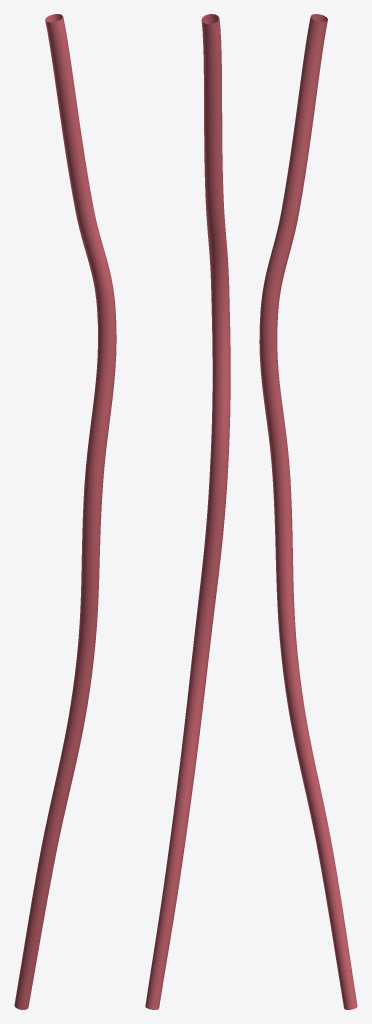
The picture shows the model from 3 angles, left to right: view 1: azimuth 90°, elevation 25°; view 2: azimuth 150°, elevation 25°; view 3: azimuth 270°, elevation 25°; orthographic projection. The views are drawn at different scales.
Visible parts, largest first — view 1: ZA_3a28e60a5150fbb2; view 2: ZA_3a28e60a5150fbb2; view 3: ZA_3a28e60a5150fbb2.
Boxes of the visible parts, x1,y1,x2,y2 form: ZA_3a28e60a5150fbb2: (14, 14, 116, 1009); ZA_3a28e60a5150fbb2: (145, 14, 230, 1009); ZA_3a28e60a5150fbb2: (259, 14, 357, 1009).
Bounding box in the file's own units: 0.00931 × 0.1567 × 0.0143.
